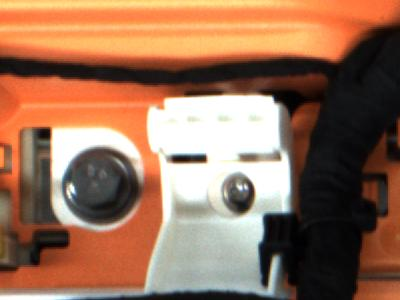nut_b: (58, 141, 149, 224)
